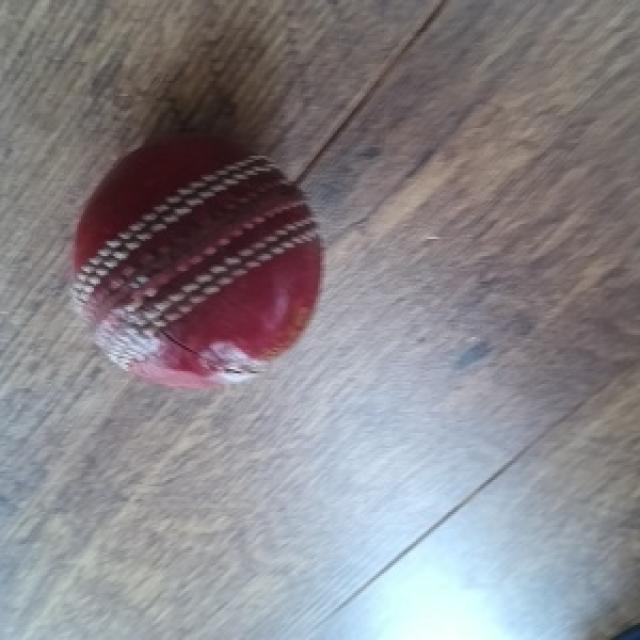ball: (70, 134, 326, 395)
